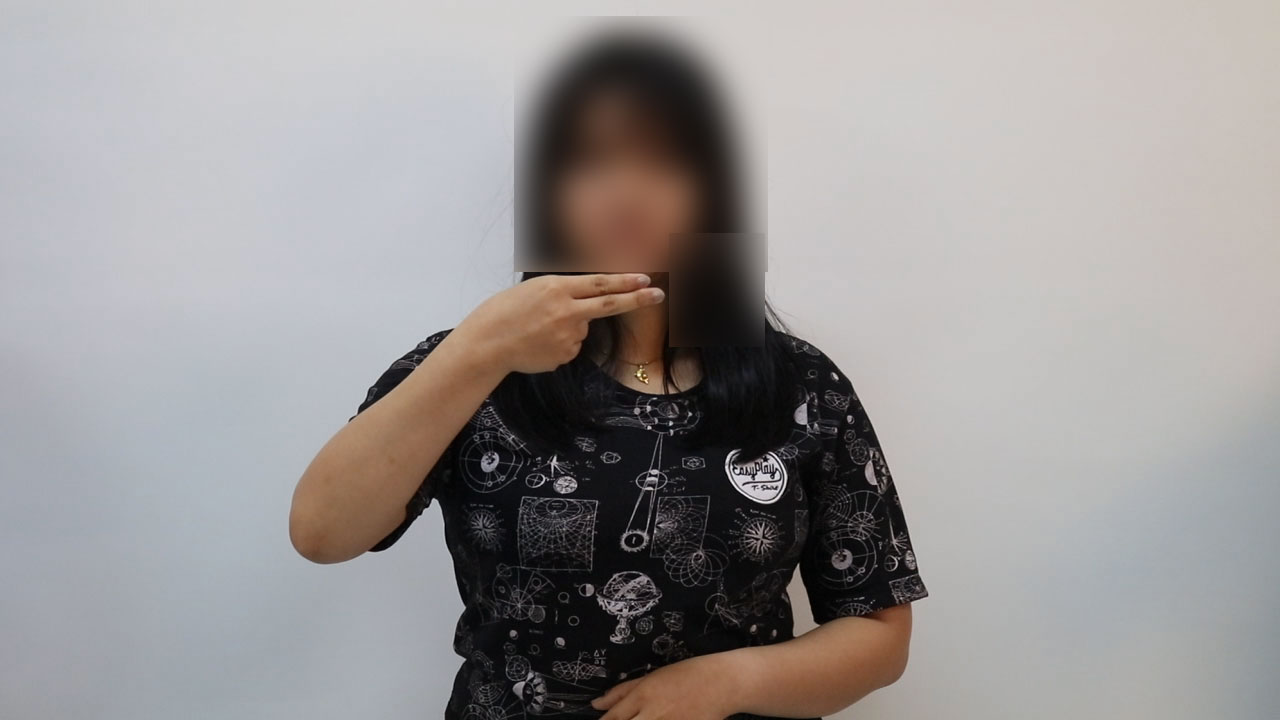hor: (442, 264, 684, 386)
